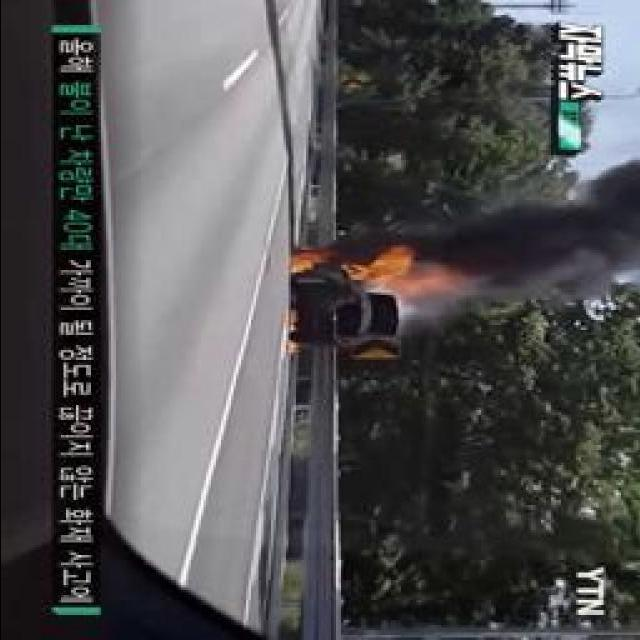Fire: (354, 252, 428, 296), (290, 250, 323, 270)
